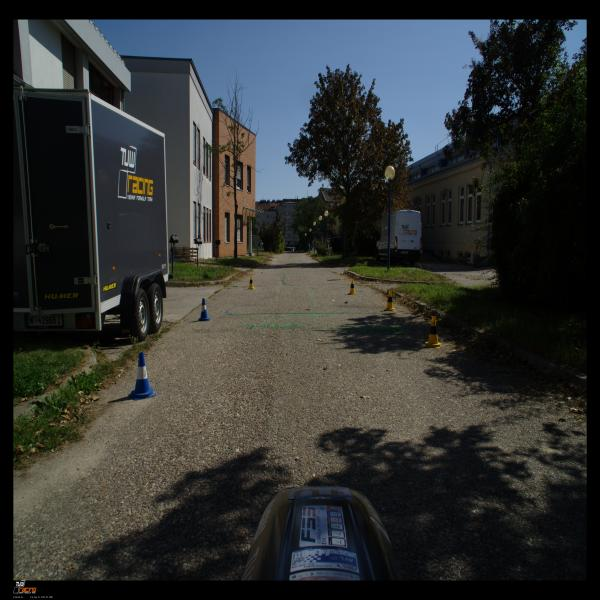blue_cone: (126, 355, 157, 400), (198, 299, 210, 322)
yellow_cone: (423, 317, 442, 348), (384, 291, 395, 311), (347, 279, 357, 295), (248, 276, 256, 290)
